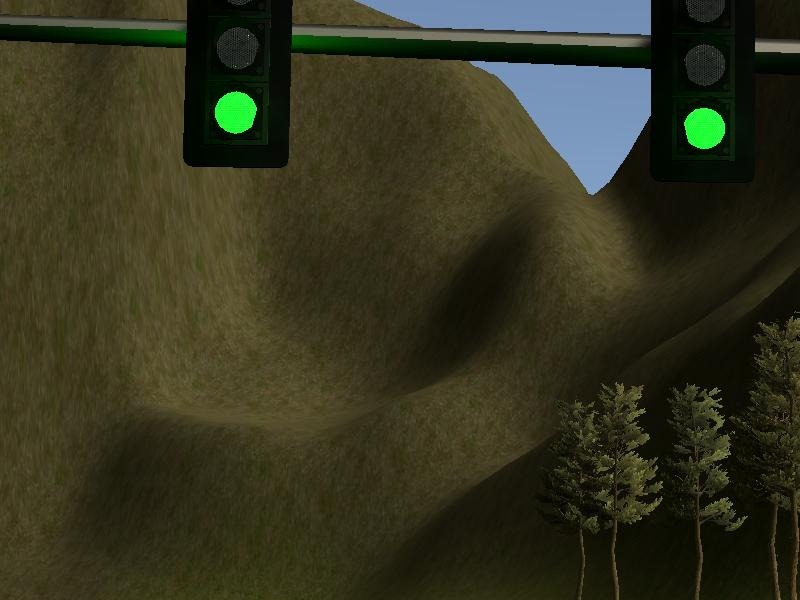Green: (648, 1, 762, 186), (184, 1, 293, 173)
